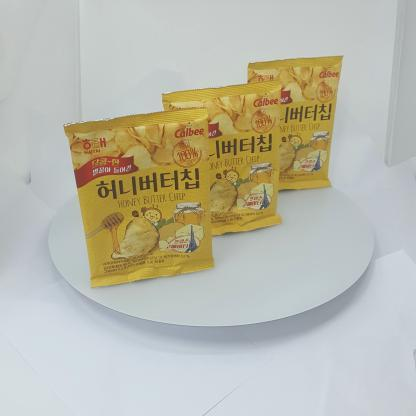Plastic Packaging: (68, 102, 214, 288), (251, 48, 345, 194)
